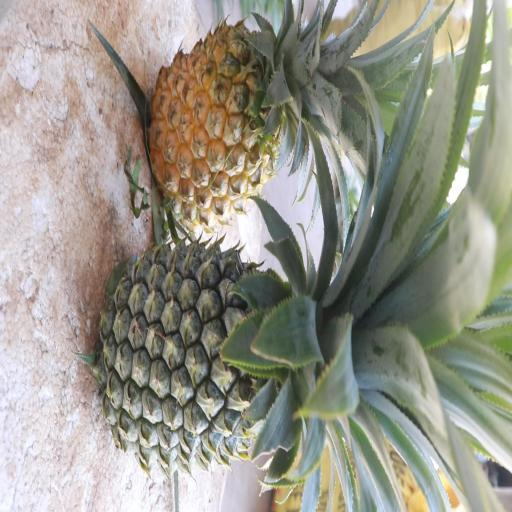Pineapple - v8 v1: (151, 1, 378, 208)
